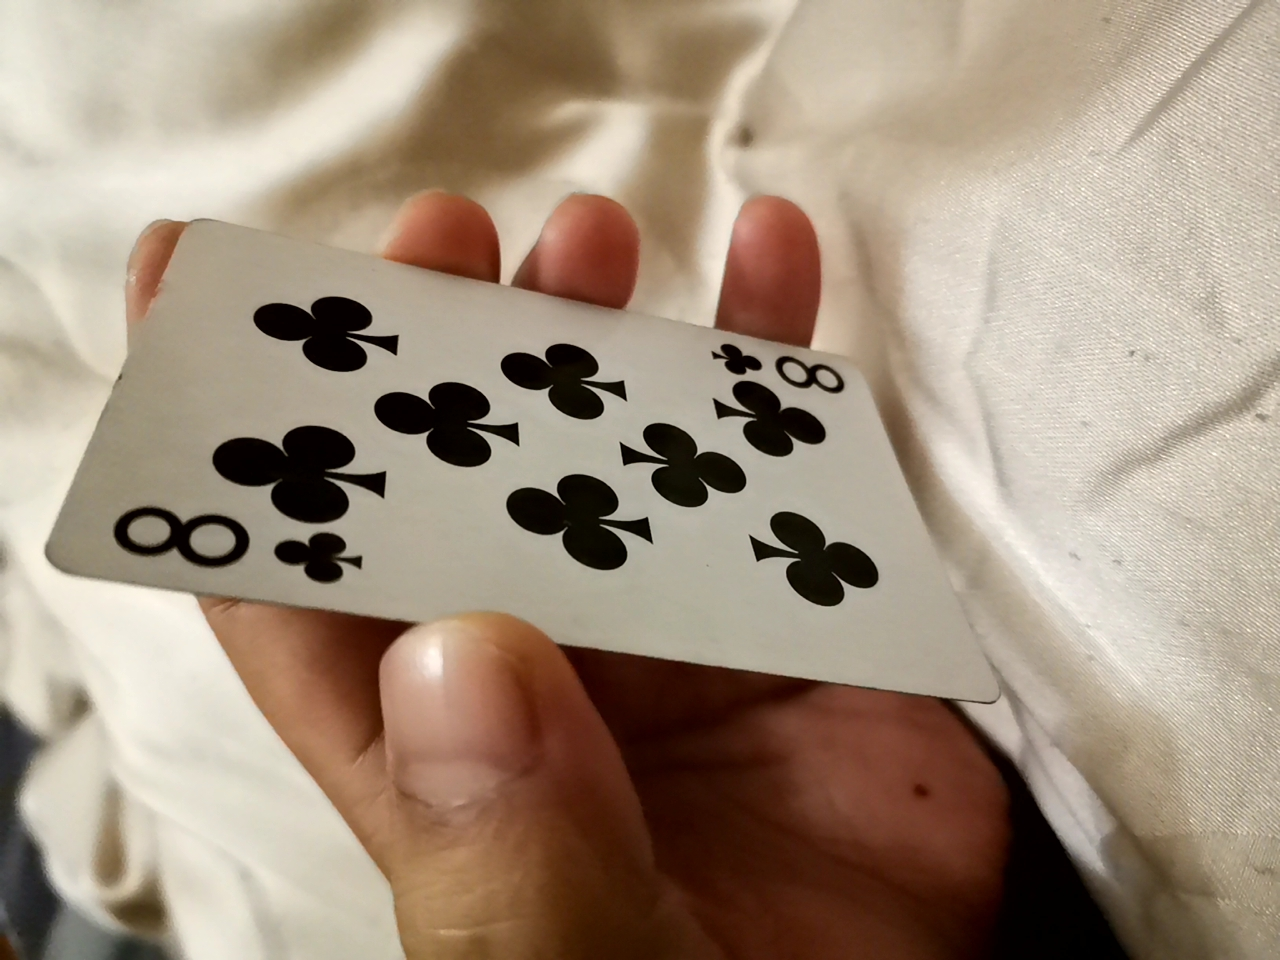mh 8: (37, 253, 991, 707)
